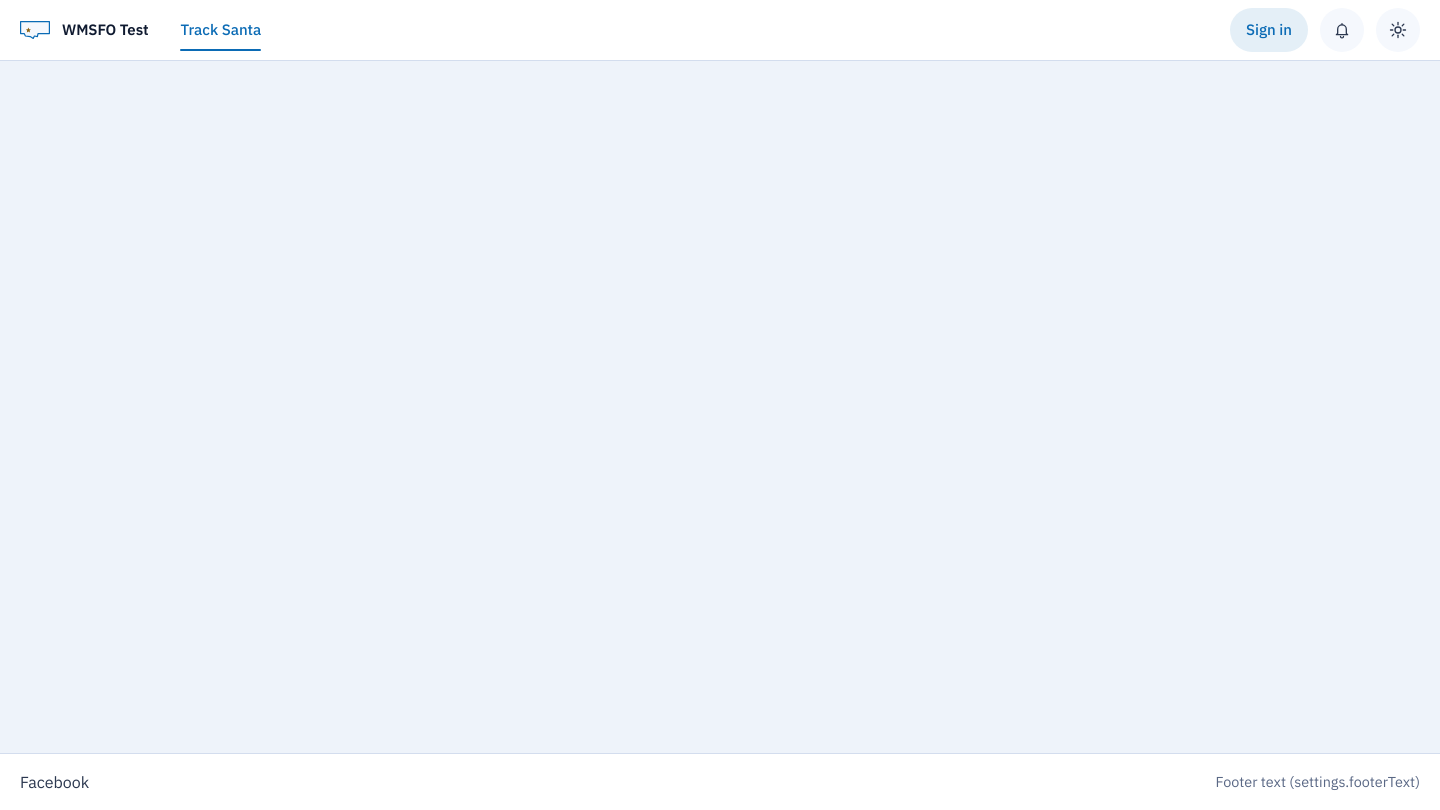
Test: Shell structure › renders the theme picker with Light, Dark, and System, and no legacy chips
The image size is (1440, 810).
What coordinates should you click on to do the following:
click the button with test id "theme-toggle"
I would click on:
 (1398, 30)
Its box is [1376, 8, 1420, 52].
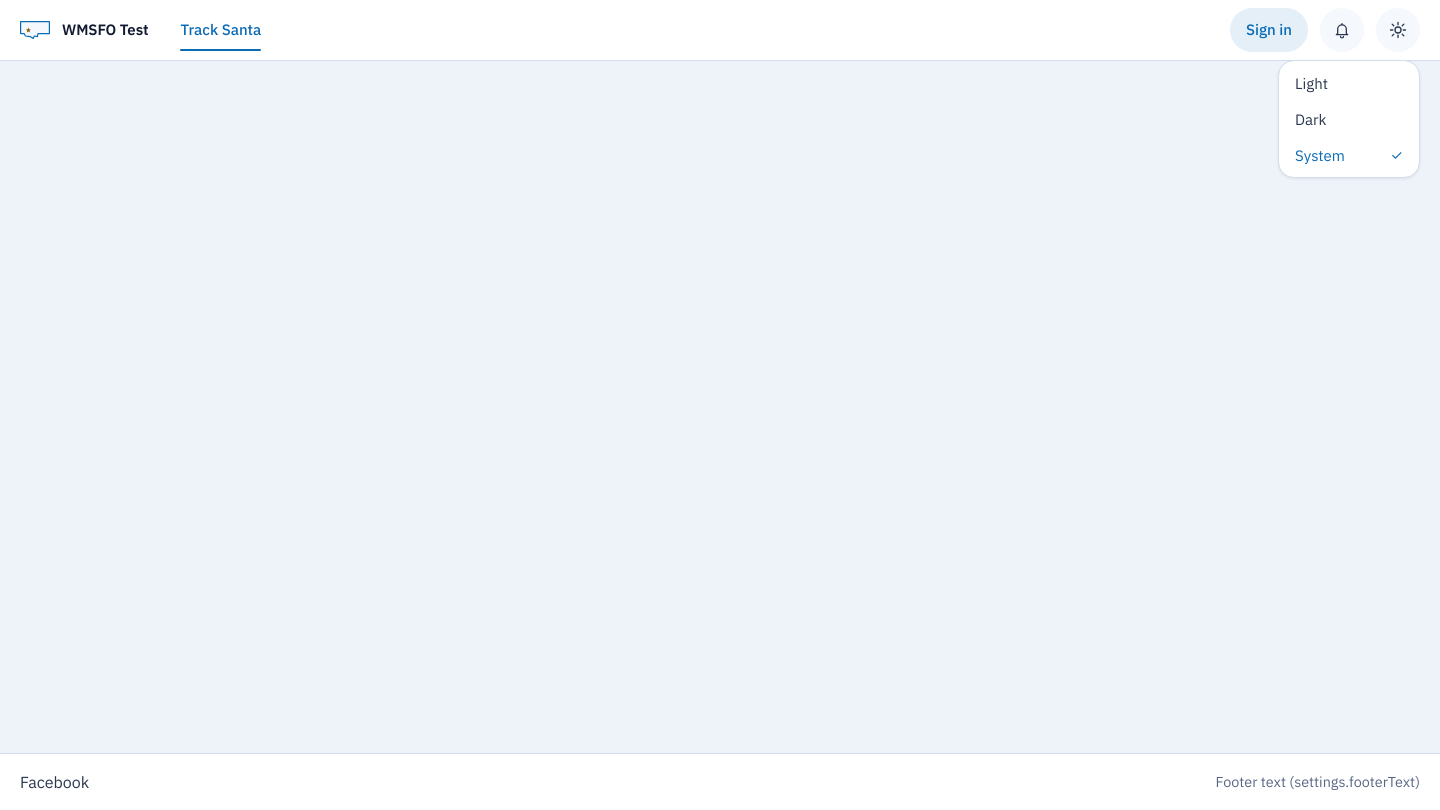
expect the menu item with test id "theme-light" reads "Light": met, box [1279, 65, 1419, 101]
expect the menu item with test id "theme-dark" reads "Dark": met, box [1279, 101, 1419, 137]
expect the menu item with test id "theme-system" reads "System": met, box [1279, 137, 1419, 173]
